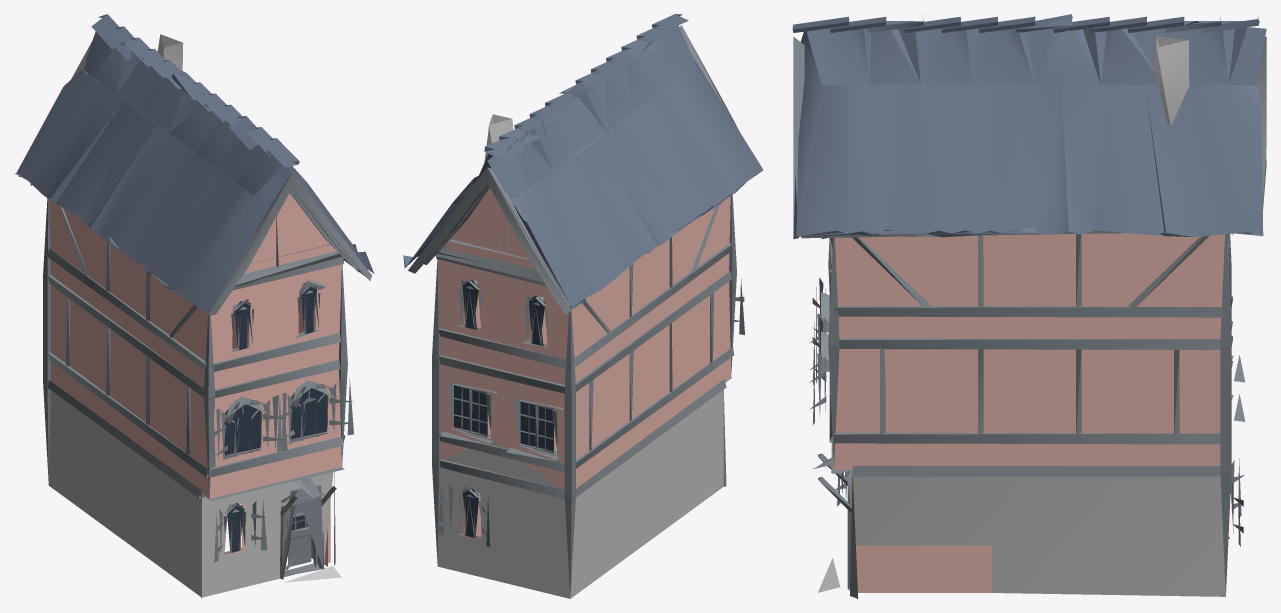
Rendered from generated.row_townhouse.gltf.
3 views of the same model, side by side, from view 1: azimuth 30°, elevation 25°; view 2: azimuth 150°, elevation 25°; view 3: azimuth 270°, elevation 25° (orthographic). The views are drawn at different scales.
Visible parts, largest first — view 1: lod; view 2: lod; view 3: lod.
Part boxes in pixels (bbox=[...]): lod: bbox=[15, 14, 374, 598]; lod: bbox=[403, 14, 763, 598]; lod: bbox=[792, 14, 1266, 598].
Bounding box in the file's own units: 5.57 × 12.81 × 10.16.
